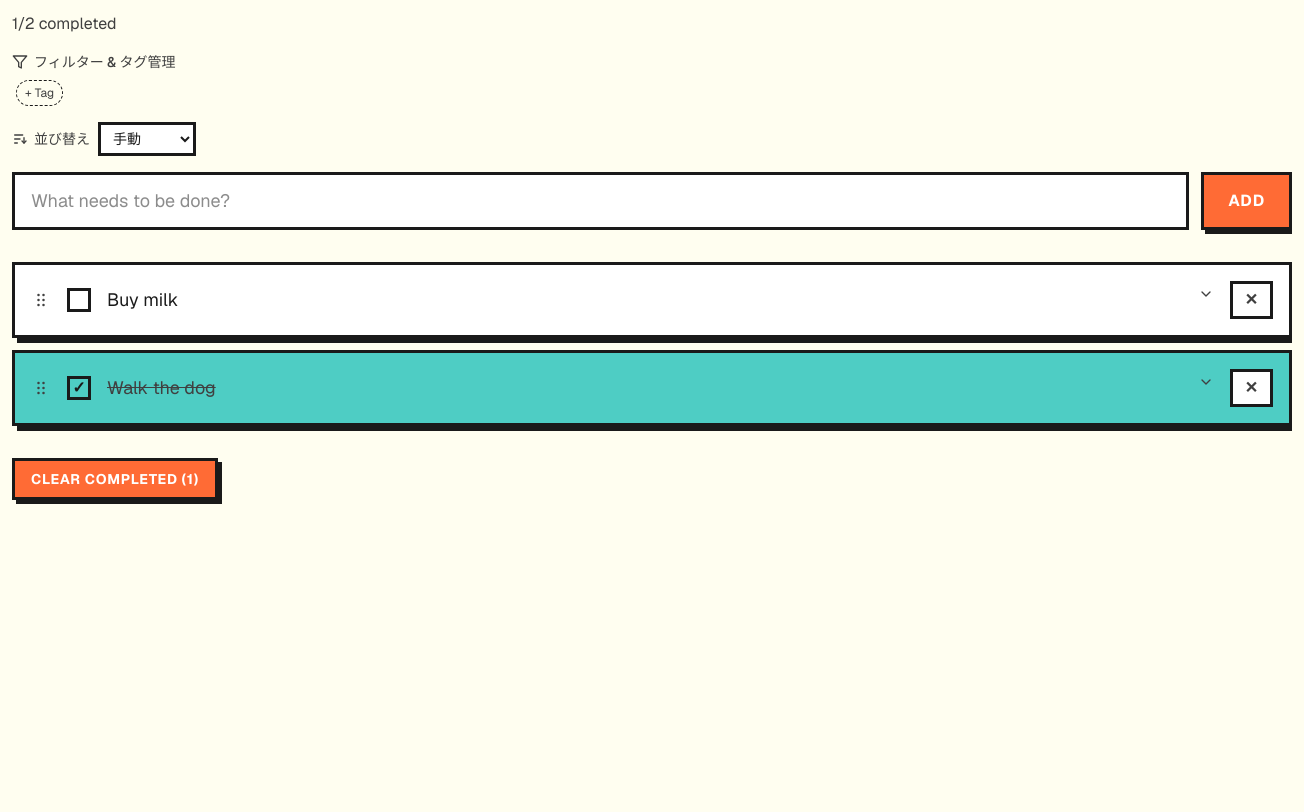
TodoSection › can add a todo
Expected: the text "Buy milk" is shown, left=107, top=288, right=178, bottom=311
Type "Read a book" into the field with placeholder "What needs to be done?". click: (601, 201)
box: left=12, top=172, right=1189, bottom=230
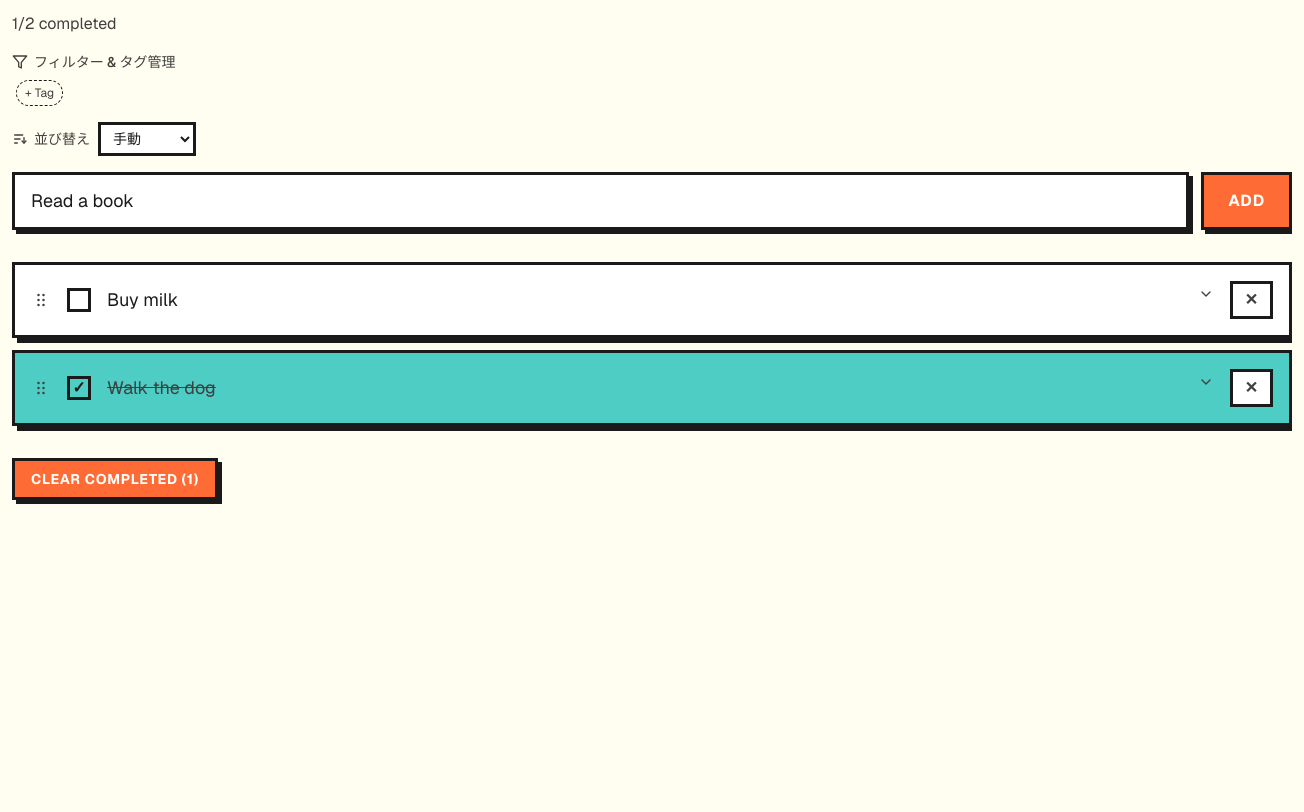
Click the button "Add". click: (1247, 201)
box: left=1201, top=172, right=1292, bottom=230
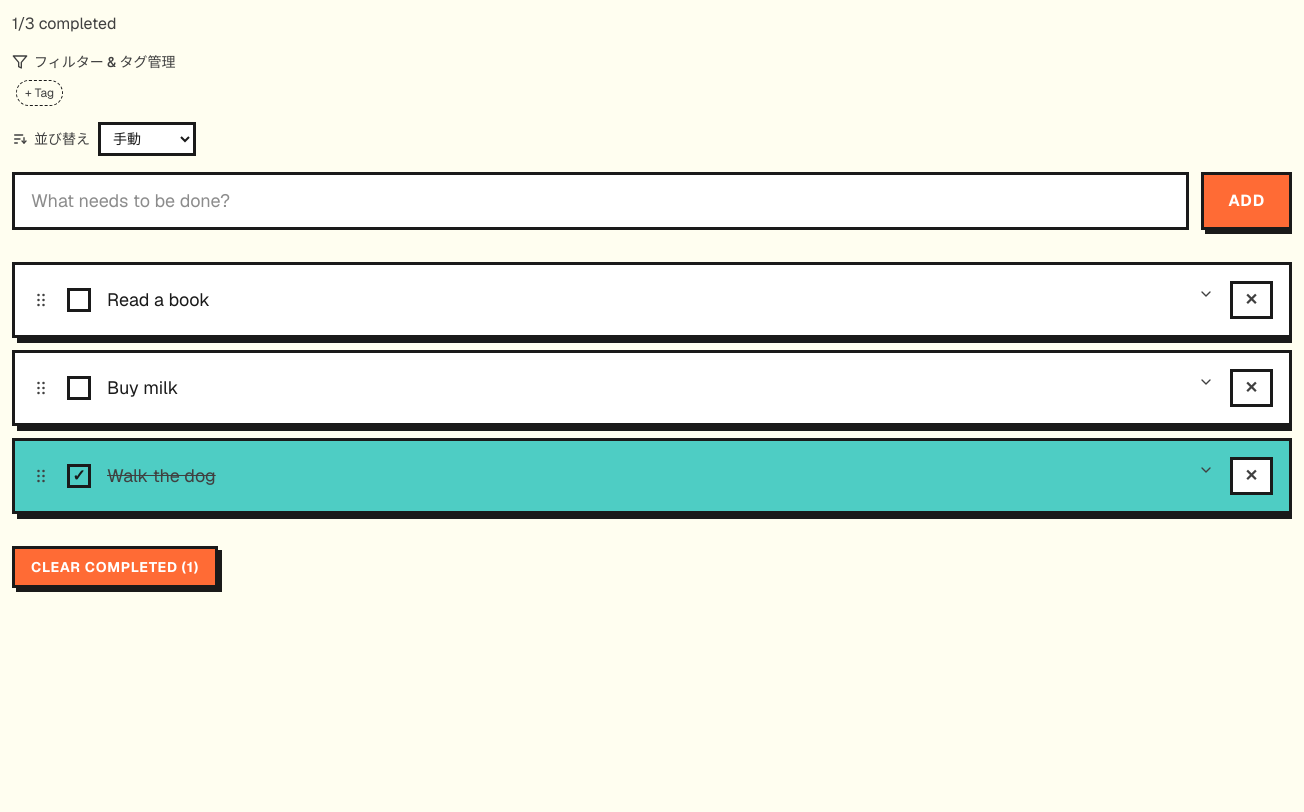
Now the text "Read a book" is shown, box left=107, top=288, right=210, bottom=311
Now the field with placeholder "What needs to be done?" is empty, box left=12, top=172, right=1189, bottom=230
Now the text "1/3 completed" is shown, box left=12, top=13, right=116, bottom=34
